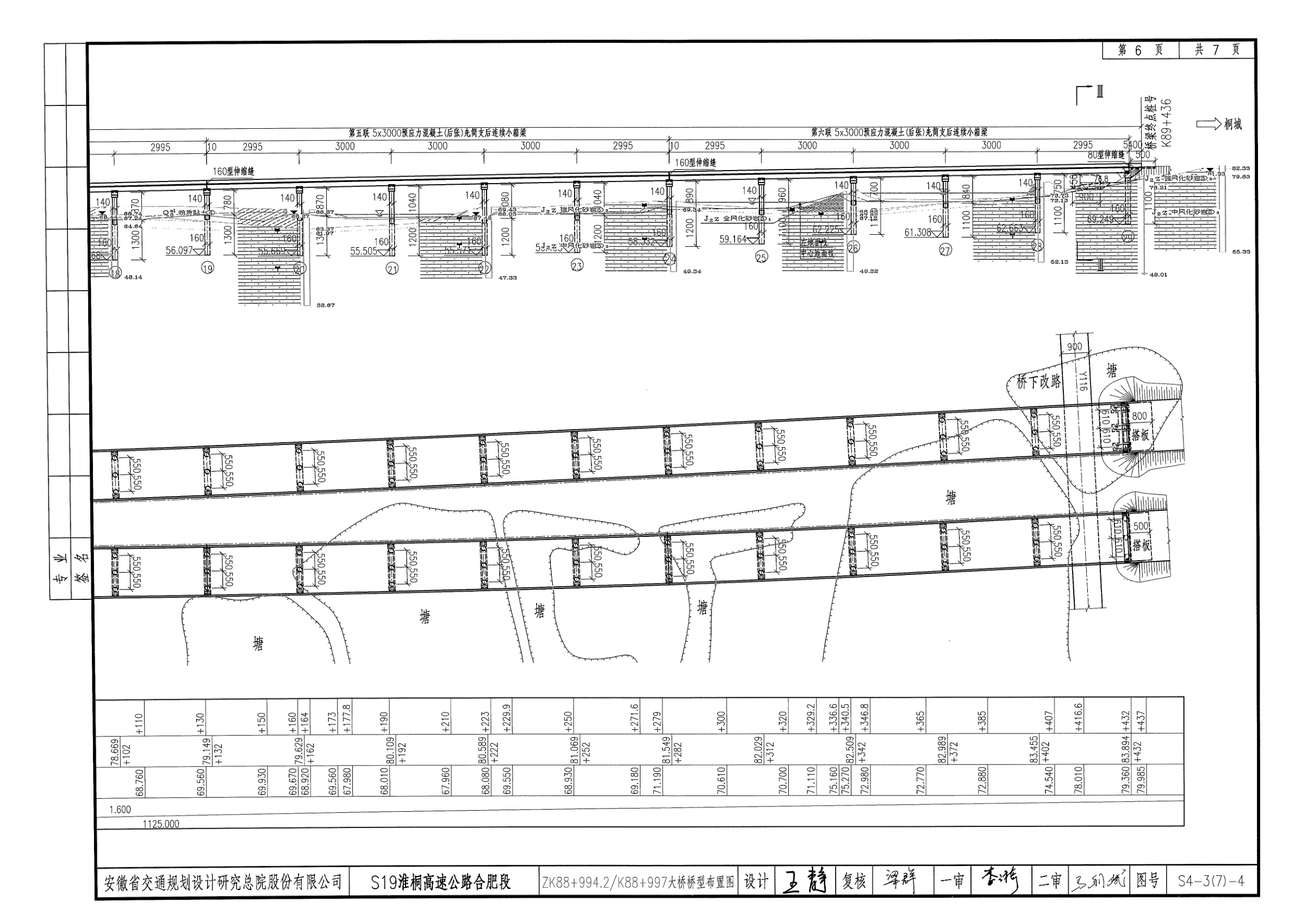A: (72, 74, 1266, 295)
